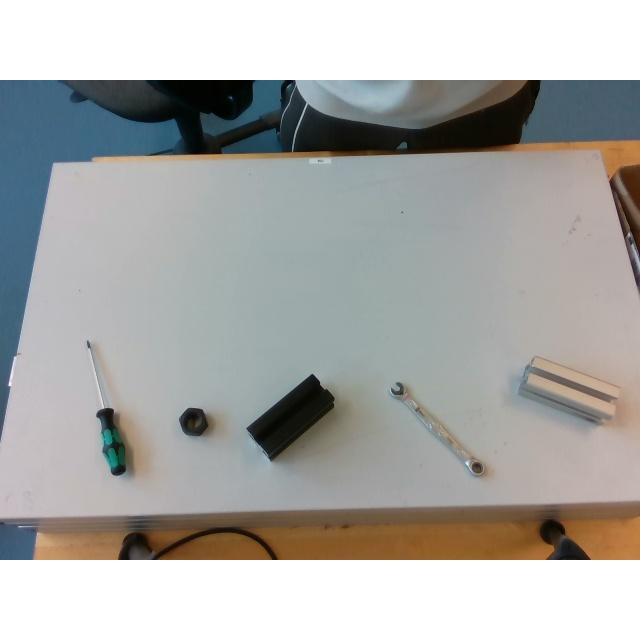M20: (179, 408, 207, 436)
S40_40_B: (247, 375, 333, 459)
S40_40_G: (513, 355, 621, 423)
Screwdriver: (82, 339, 126, 476)
Wrench: (388, 380, 486, 476)
